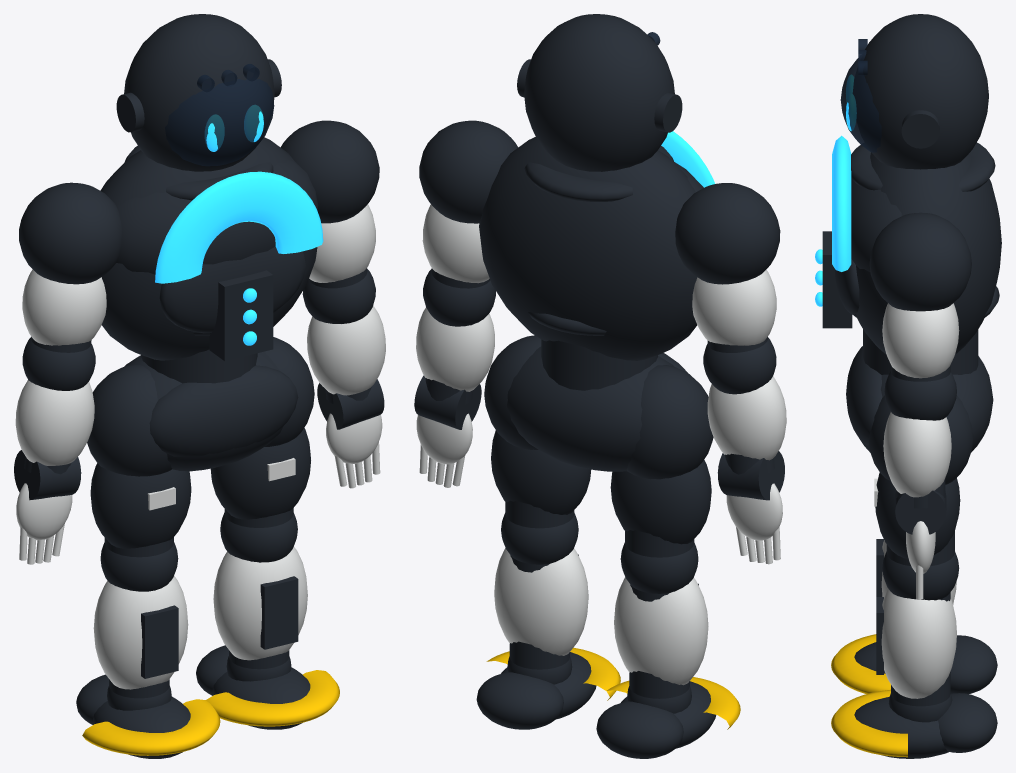
File: agentech-master-web.glb
3 renders of one model, left to right at view 1: azimuth 30°, elevation 25°; view 2: azimuth 150°, elevation 25°; view 3: azimuth 270°, elevation 25°, orthographic.
Visible parts, largest first — view 1: Head_Shell, Chest_Core, Chest_Signal_Ring, Pelvis_Armor, Right_Shoulder_Pod, Face_Glass, Right_Hip_Pod, Left_Shoulder_Pod, Chest_Upper_Armor, Right_Thigh_Armor, Right_Shin_Armor, Left_Shin_Armor (+34 smaller); view 2: Chest_Core, Head_Shell, Pelvis_Core, Right_Shoulder_Pod, Left_Shin_Armor, Right_Shin_Armor, Right_Hip_Pod, Left_Shoulder_Pod, Right_Thigh_Armor, Left_Thigh_Armor, Right_Upper_Arm_Armor, Right_Forearm_Armor (+28 smaller); view 3: Head_Shell, Chest_Core, Left_Shoulder_Pod, Left_Shin_Armor, Left_Forearm_Armor, Left_Upper_Arm_Armor, Left_Elbow_Joint, Left_Foot_Heel, Chest_Upper_Armor, Left_Hip_Pod, Left_Foot_Core, Chest_Signal_Ring (+22 smaller).
Part boxes in pixels (x1,y1,x2,y2): Head_Shell: (124,14,274,171); Chest_Core: (100,137,317,360); Chest_Signal_Ring: (155,171,323,283); Pelvis_Armor: (149,365,298,456); Right_Shoulder_Pod: (19,182,121,284); Face_Glass: (165,79,274,166); Right_Hip_Pod: (87,365,172,476); Left_Shoulder_Pod: (280,120,379,223); Chest_Upper_Armor: (115,160,318,274); Right_Thigh_Armor: (90,463,191,548); Right_Shin_Armor: (93,576,188,689); Left_Shin_Armor: (213,546,307,660); Chest_Core: (479,136,697,360); Head_Shell: (524,14,674,171); Pelvis_Core: (507,346,674,471); Right_Shoulder_Pod: (675,183,780,284); Left_Shin_Armor: (494,548,588,655); Right_Shin_Armor: (614,577,708,685); Right_Hip_Pod: (626,365,713,479); Left_Shoulder_Pod: (419,120,518,223); Right_Thigh_Armor: (610,460,711,544); Left_Thigh_Armor: (491,430,591,514); Right_Upper_Arm_Armor: (692,269,776,345); Right_Forearm_Armor: (707,376,786,460); Head_Shell: (853,14,988,169); Chest_Core: (856,152,1001,354); Left_Shoulder_Pod: (869,212,971,311); Left_Shin_Armor: (881,588,956,698); Left_Forearm_Armor: (883,412,951,497); Left_Upper_Arm_Armor: (882,303,959,378); Left_Elbow_Joint: (884,371,956,420); Left_Foot_Heel: (938,693,997,752); Chest_Upper_Armor: (851,178,901,272); Left_Hip_Pod: (868,395,973,484); Left_Foot_Core: (854,696,948,758); Chest_Signal_Ring: (832,135,851,271).
Size of the model in its own units: 1.95 by 3.63 by 0.875.
